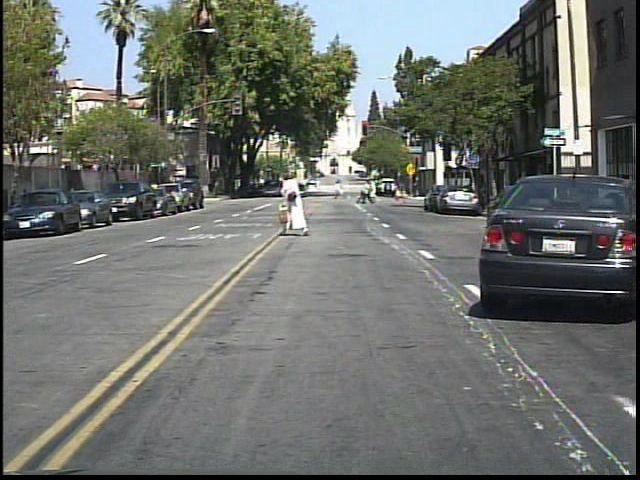person: (277, 168, 311, 239), (618, 162, 637, 230), (512, 167, 533, 226), (365, 176, 384, 208), (359, 177, 378, 207)
